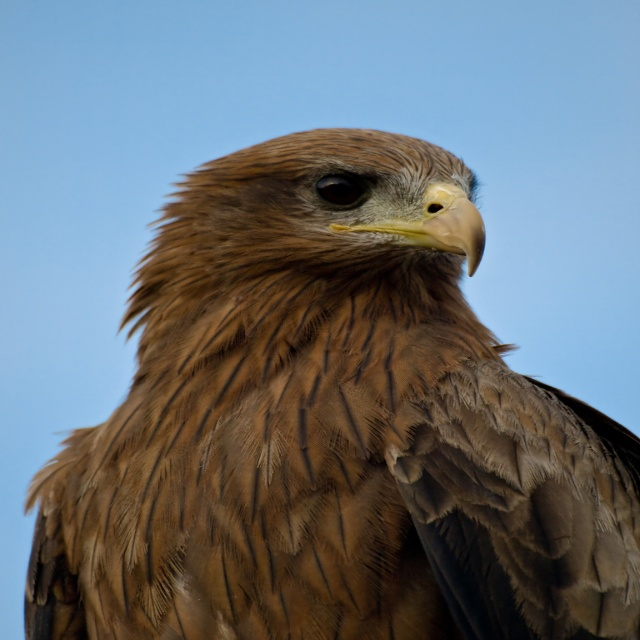Eagle: (20, 123, 639, 640)
